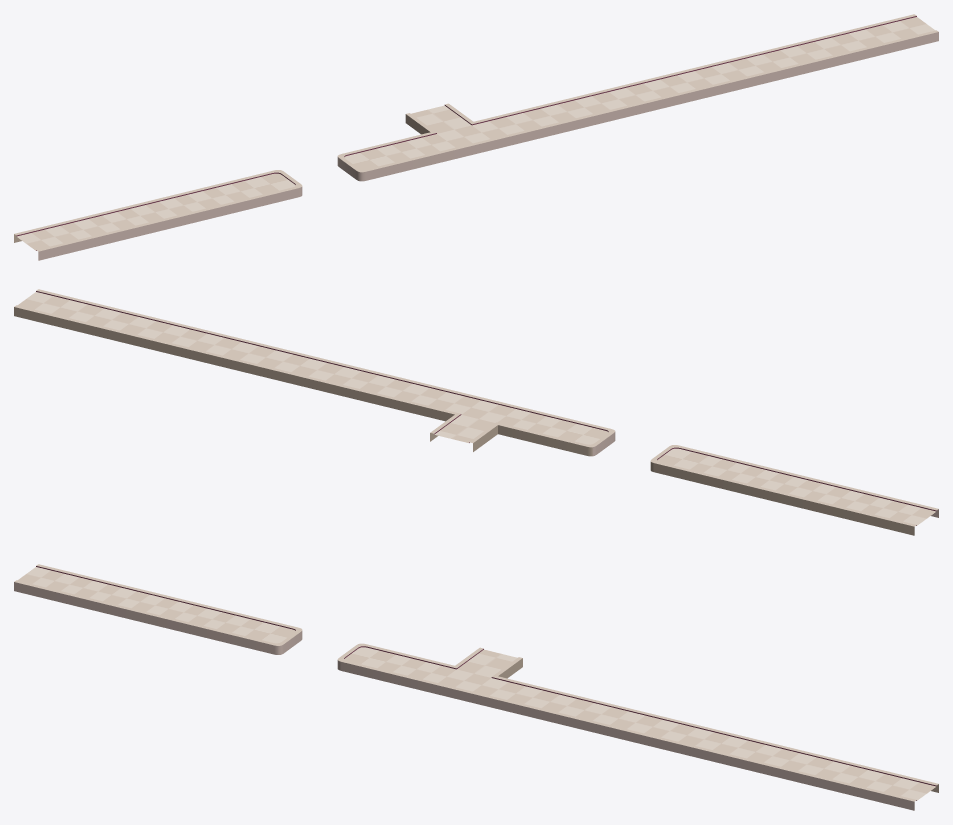
The model's file is Outside_Road_02.fbx.
3 renders of one model, top to bottom at view 1: azimuth 30°, elevation 25°; view 2: azimuth 150°, elevation 25°; view 3: azimuth 330°, elevation 25°, orthographic.
Visible parts, largest first — view 1: Outside_Road_02; view 2: Outside_Road_02; view 3: Outside_Road_02.
Part boxes in pixels (bbox=[...]): Outside_Road_02: bbox=[14, 14, 938, 260]; Outside_Road_02: bbox=[14, 289, 938, 535]; Outside_Road_02: bbox=[14, 564, 938, 810].
Bounding box in the file's own units: 2623 × 25.48 × 248.
